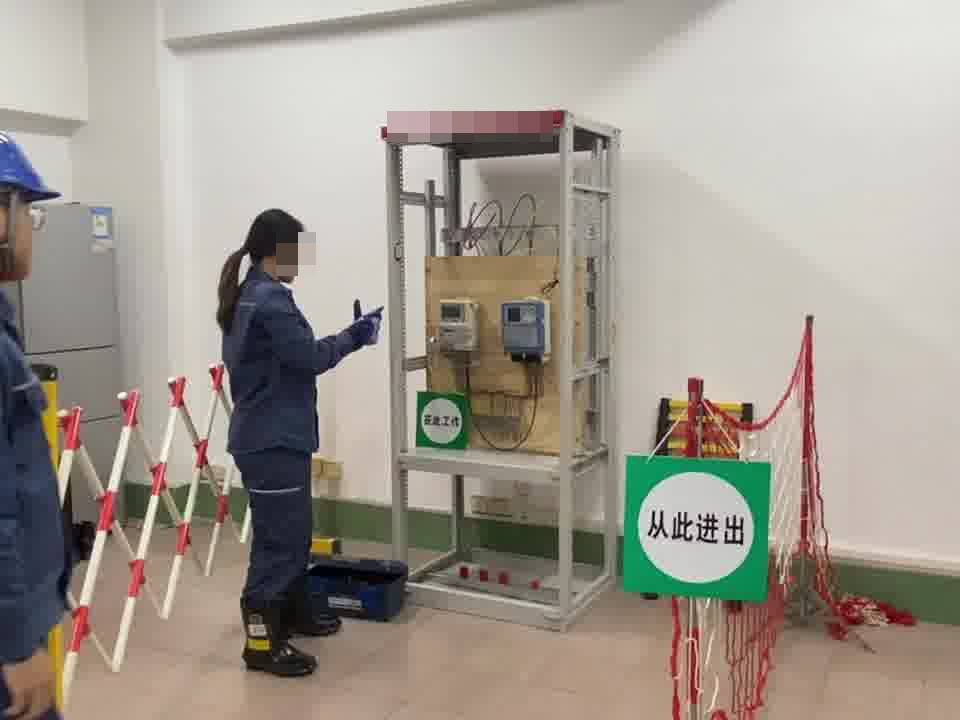downsuit: (231, 452, 318, 609)
glove: (348, 301, 385, 342)
halt: (1, 131, 59, 284)
hand: (4, 650, 60, 720)
intosign: (616, 453, 768, 603)
person: (212, 204, 373, 679), (1, 120, 83, 720)
shoe: (236, 597, 315, 671), (279, 577, 345, 638)
unhalt: (245, 209, 310, 280)
upsuit: (225, 278, 374, 453), (1, 289, 70, 659)
worksign: (404, 384, 475, 456)
